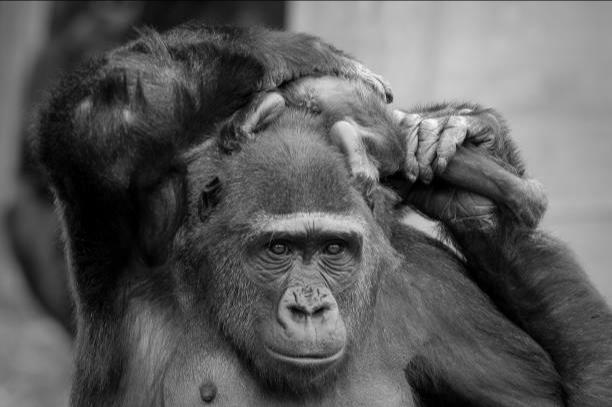gorille_Autres: (1, 0, 612, 406)
